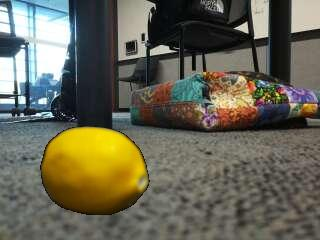lemon: (41, 127, 147, 214)
